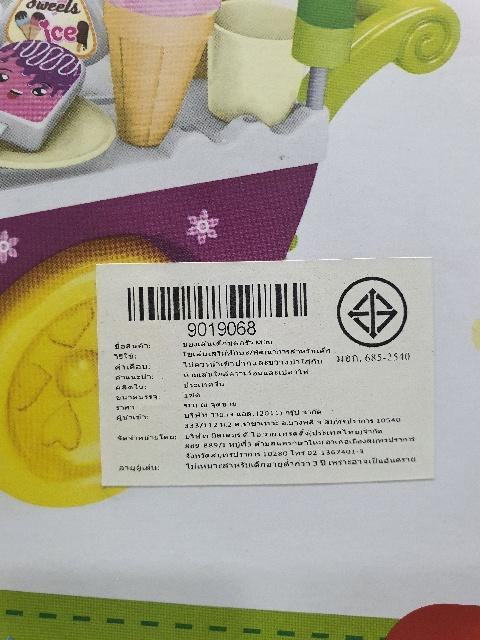Barcode: (117, 277, 318, 337)
